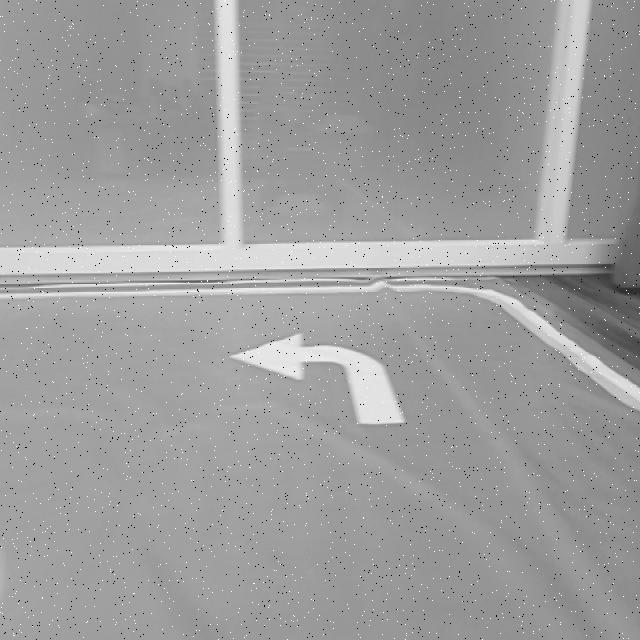right_lane: (494, 302, 638, 411)
